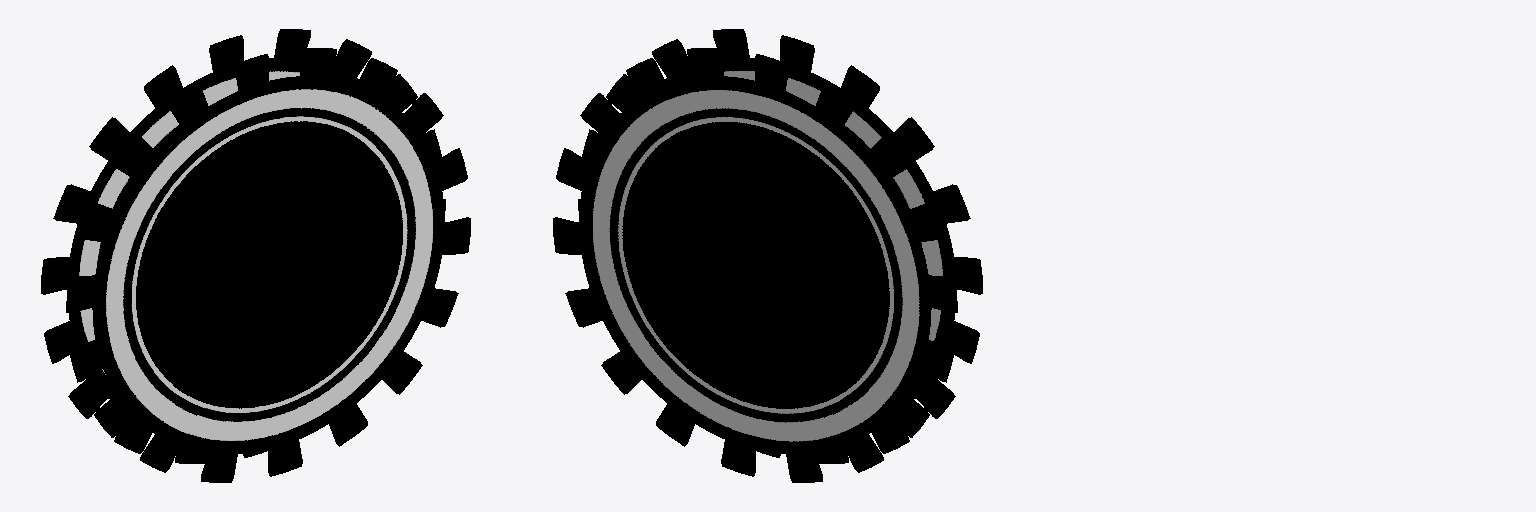
3 renders of one model, left to right at view 1: azimuth 30°, elevation 25°; view 2: azimuth 150°, elevation 25°; view 3: azimuth 270°, elevation 25°, orthographic.
Visible parts, largest first — view 1: Gear_XL; view 2: Gear_XL; view 3: none.
Boxes of the visible parts, <box> form: Gear_XL: <box>41,29,470,482</box>; Gear_XL: <box>553,29,982,482</box>.
Bounding box in the file's own units: 9.2 × 9.2 × 1.
Materials: 1 (1 with a texture image).